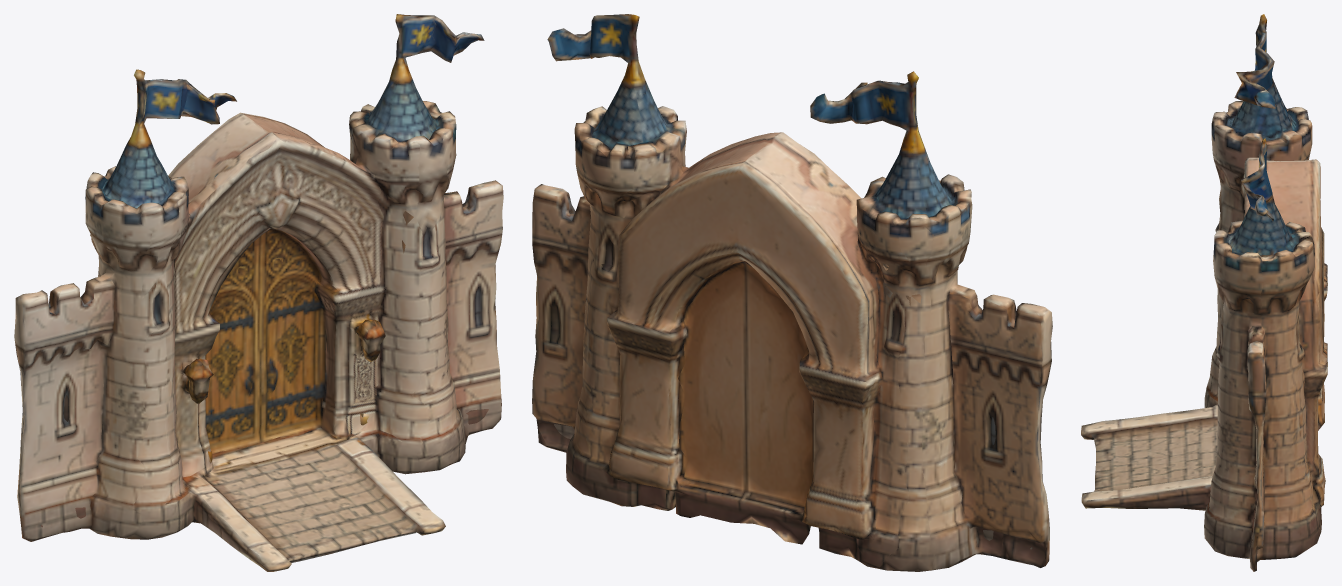
File: 롯데_정문게이트.glb
The picture shows the model from 3 angles, left to right: view 1: azimuth 30°, elevation 25°; view 2: azimuth 150°, elevation 25°; view 3: azimuth 270°, elevation 25°; orthographic projection. The views are drawn at different scales.
Parts seen in each view (by area): view 1: texture_mapping; view 2: texture_mapping; view 3: texture_mapping.
Boxes of the visible parts, x1,y1,x2,y2 form: texture_mapping: (14,14,503,571); texture_mapping: (532,14,1052,571); texture_mapping: (1081,14,1327,571).
Bounding box in the file's own units: 1 × 0.8875 × 0.488.
Materials: 1 (1 with a texture image).
